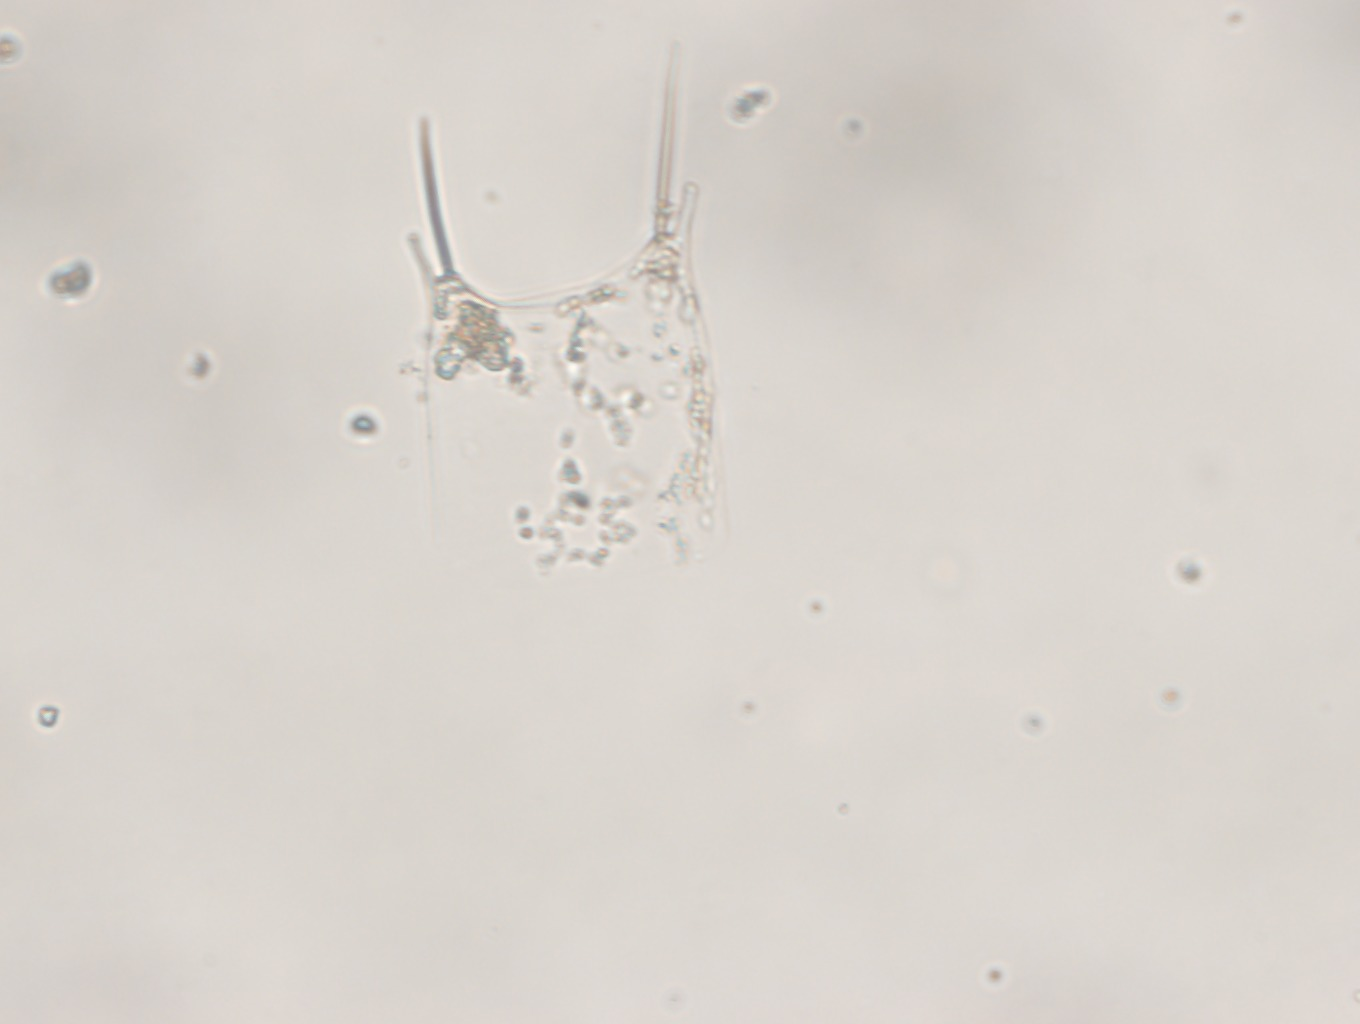biddulphia: (382, 46, 742, 605)
